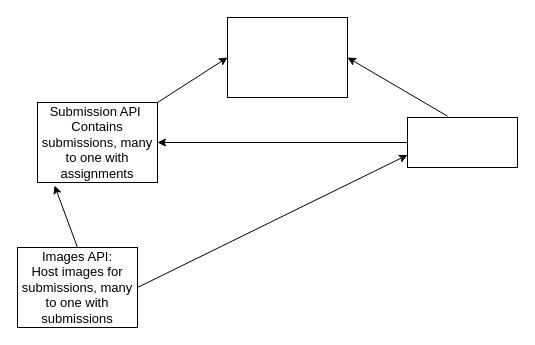
Image size: 535x345. Some labels were removed from this diagram. Each missing label, with the centre of its shape:
"Assignment API Contains assignments made by teacher" belongs at (x=287, y=57).
"Frontend" belongs at (x=462, y=142).
